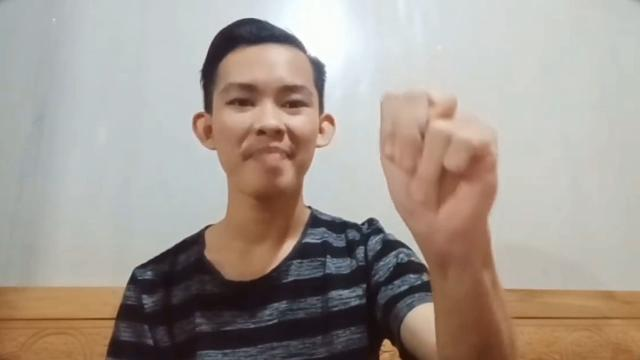N: (376, 88, 502, 248)
